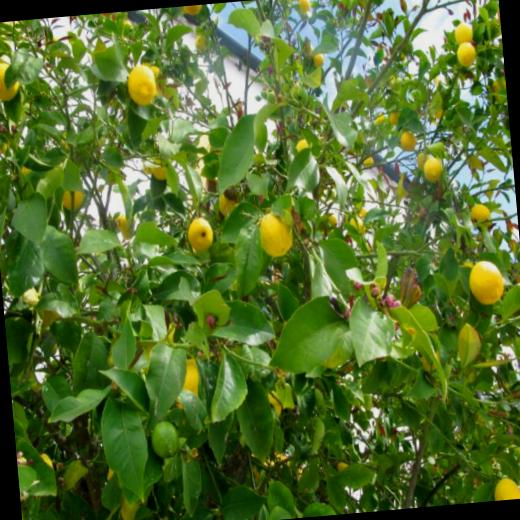Grape: (467, 253, 513, 307), (261, 207, 304, 264), (125, 61, 158, 111), (186, 219, 216, 255), (0, 56, 23, 101), (454, 37, 480, 70), (490, 474, 520, 500), (466, 201, 488, 230), (454, 16, 475, 44), (422, 158, 441, 188), (386, 106, 406, 127), (409, 134, 422, 154), (184, 4, 204, 17), (298, 0, 310, 15), (416, 142, 424, 164)
